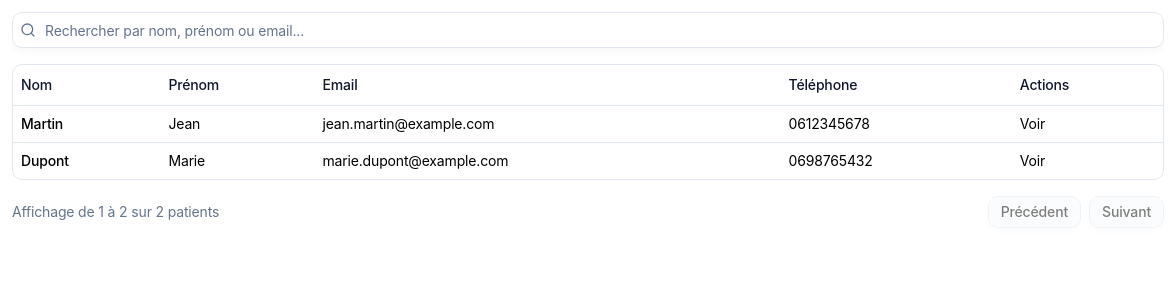
Scenario: PatientsTableWrapper E2E › story 5.1 AC 8 — affiche un EmptyState « Aucun résultat » quand la recherche ne retourne rien
Expected: the text "Martin" is shown, [21,114,63,132]
Type "Xyz" into the field with placeholder "Rechercher par nom, prénom ou email..." at (588,30), box [12,12,1164,48]
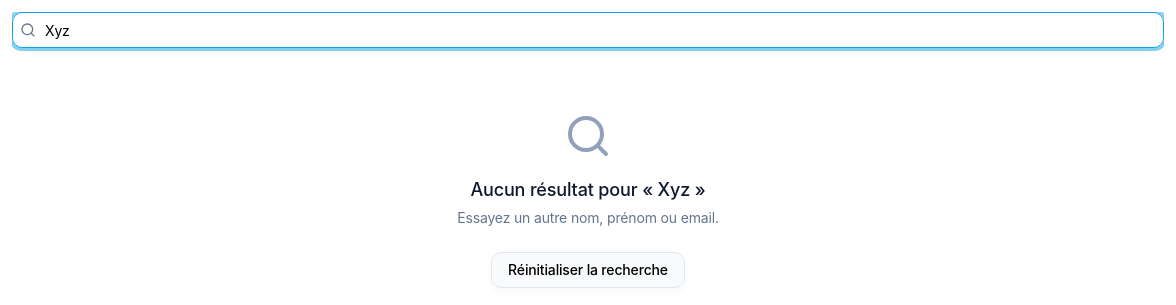
Expected: the heading "Aucun résultat pour « Xyz »" is shown, [470,176,706,204]
